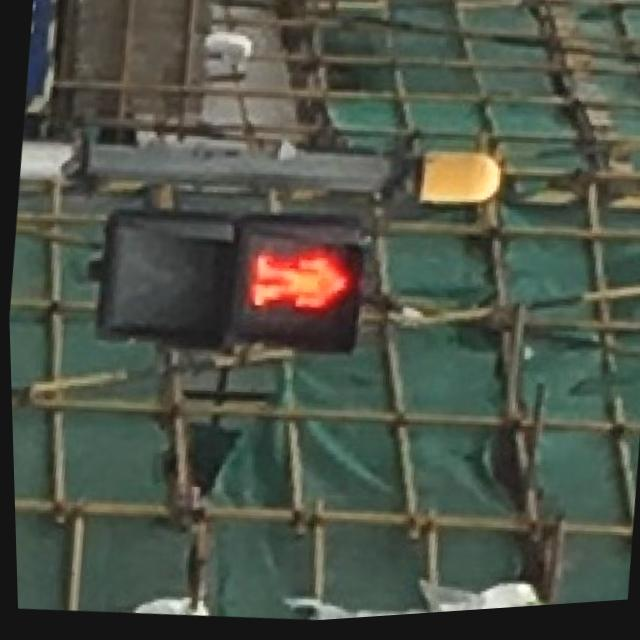red_light: (239, 238, 360, 340)
